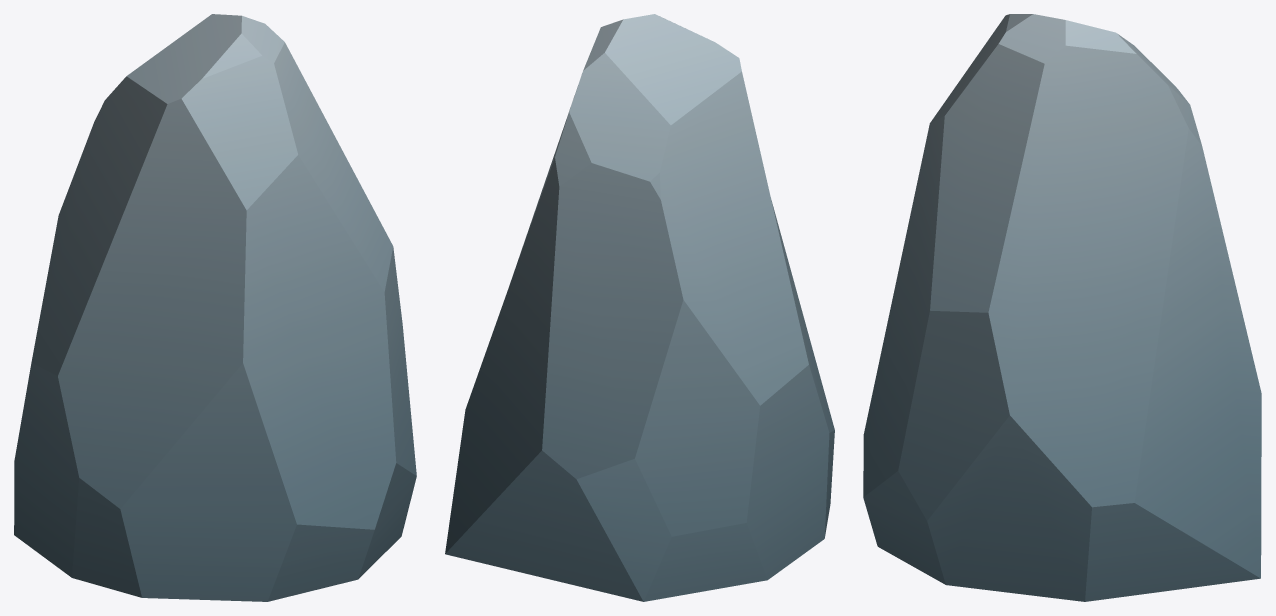
Rendered from Furniture_Stone_3.fbx.
3 views of the same model, side by side, from view 1: azimuth 30°, elevation 25°; view 2: azimuth 150°, elevation 25°; view 3: azimuth 270°, elevation 25° (orthographic). The views are drawn at different scales.
Visible parts, largest first — view 1: Furniture_Stone_3; view 2: Furniture_Stone_3; view 3: Furniture_Stone_3.
Boxes of the visible parts, x1,y1,x2,y2 form: Furniture_Stone_3: [14, 14, 416, 601]; Furniture_Stone_3: [445, 14, 834, 601]; Furniture_Stone_3: [863, 14, 1261, 601].
Bounding box in the file's own units: 151 × 220 × 154.
